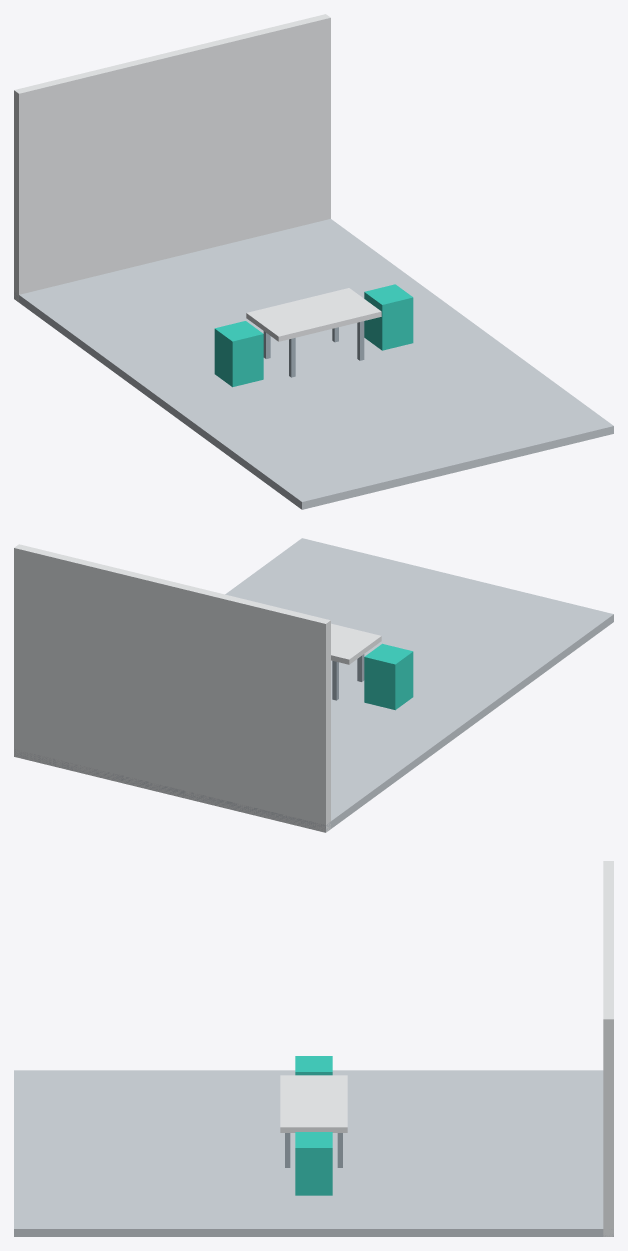
The picture shows the model from 3 angles, top to bottom: view 1: azimuth 30°, elevation 25°; view 2: azimuth 150°, elevation 25°; view 3: azimuth 270°, elevation 25°; orthographic projection. The views are drawn at different scales.
Visible parts, largest first — view 1: Exhibition Booth Concept; view 2: Exhibition Booth Concept; view 3: Exhibition Booth Concept.
Part boxes in pixels (x1,y1,x2,y2): Exhibition Booth Concept: (14, 14, 613, 509); Exhibition Booth Concept: (14, 538, 613, 832); Exhibition Booth Concept: (14, 861, 613, 1236).
Size of the model in its own units: 5 by 3.2 by 8.
